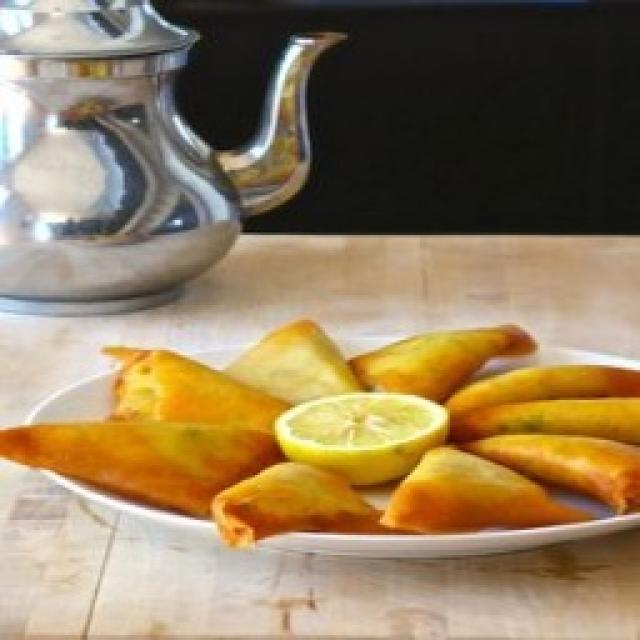Brik: (0, 320, 640, 546)
